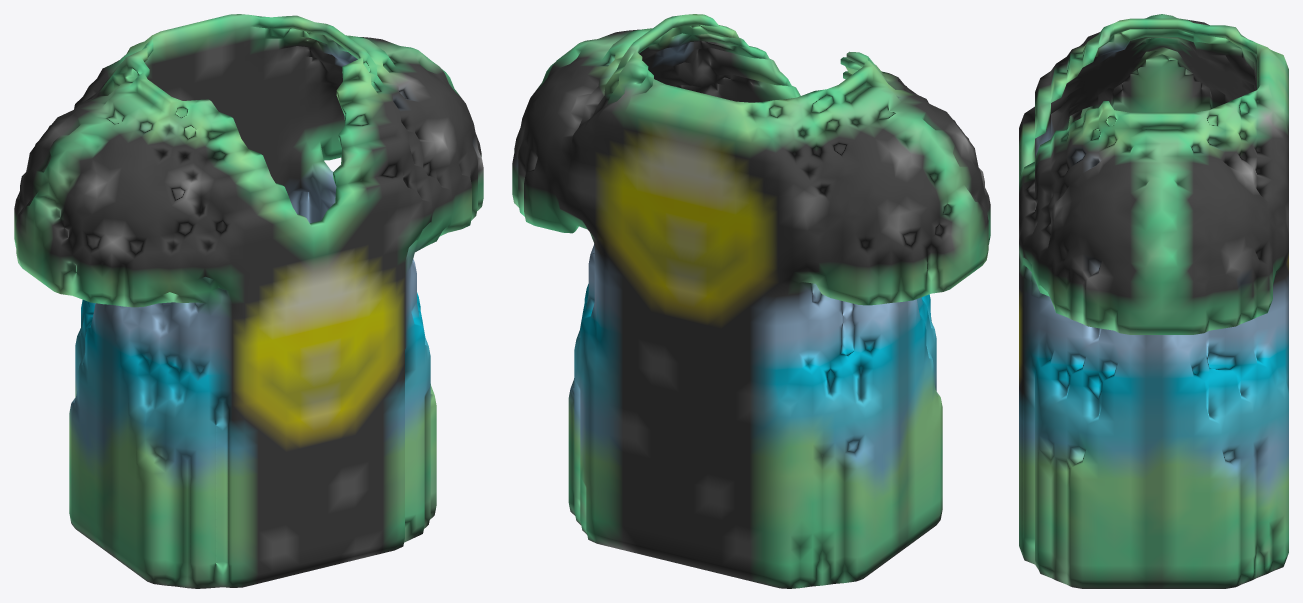
3 renders of one model, left to right at view 1: azimuth 30°, elevation 25°; view 2: azimuth 150°, elevation 25°; view 3: azimuth 270°, elevation 25°, orthographic. The views are drawn at different scales.
Bounding box in the file's own units: 1.55 × 1.58 × 0.85.
